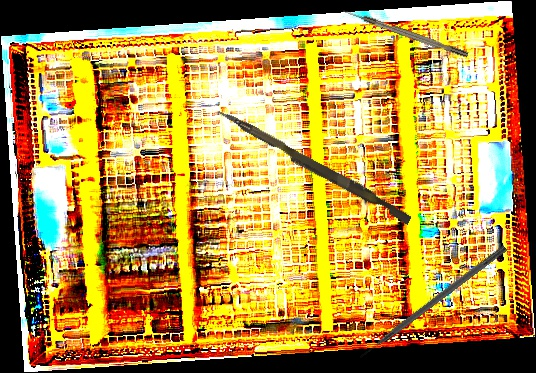Hook Surgical: (356, 243, 508, 360), (342, 7, 469, 59)
Pusher: (213, 108, 415, 225)
